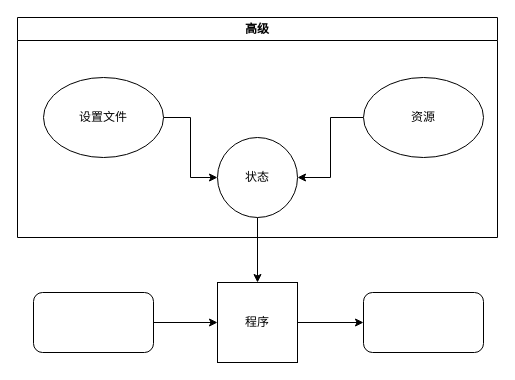
Image size: 515x380. Some labels were removed from this diagram. Here are the shapes that lost their labels. From the top down, the centre of each, then its label:
pixel 93 322: 输入
pixel 423 322: 输出
